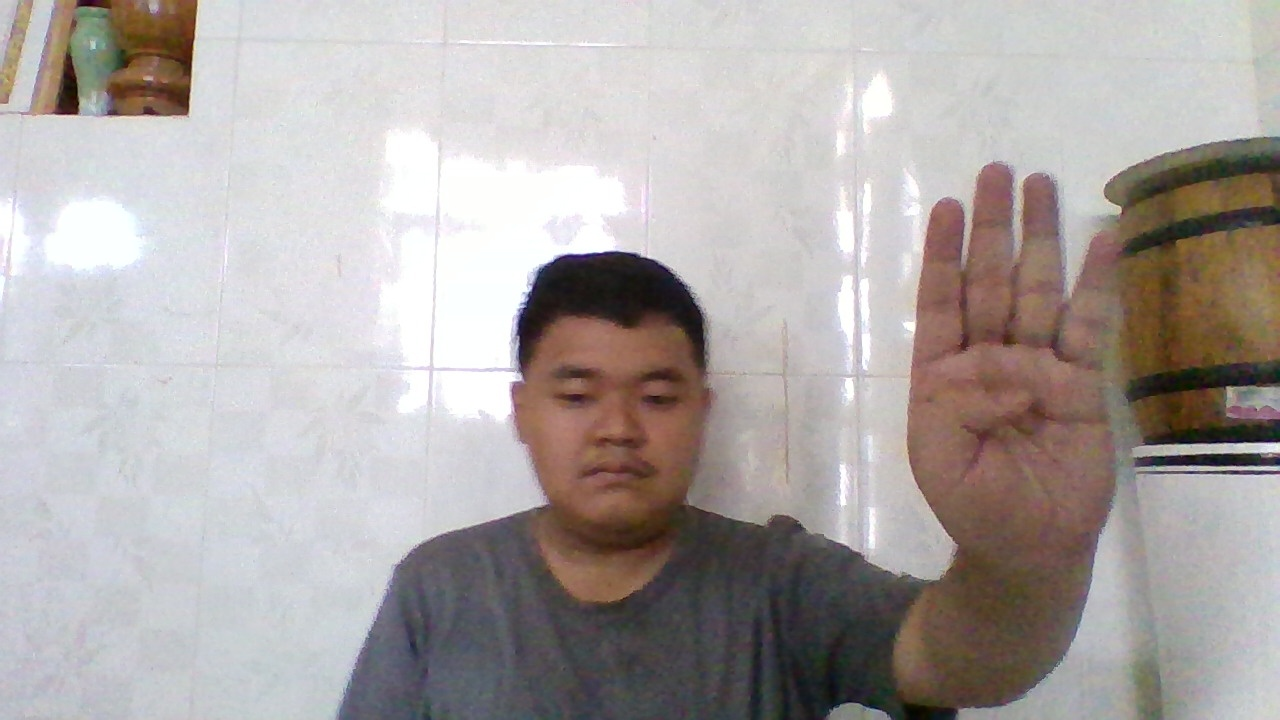B: (914, 159, 1126, 579)
